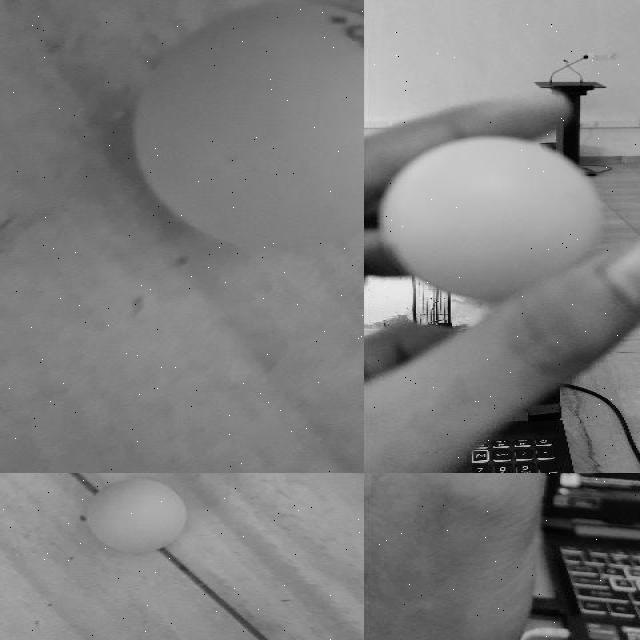ping-pong-ball: (137, 0, 363, 251), (379, 132, 602, 300), (82, 476, 184, 548)
